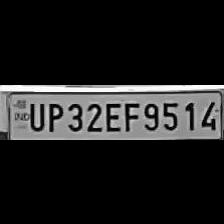1: (180, 98, 196, 130)
2: (84, 98, 103, 132)
3: (64, 98, 84, 132)
4: (196, 96, 218, 130)
5: (158, 97, 180, 130)
9: (140, 98, 160, 130)
E: (102, 98, 120, 132)
F: (121, 98, 139, 132)
P: (44, 98, 64, 132)
U: (26, 99, 44, 130)
